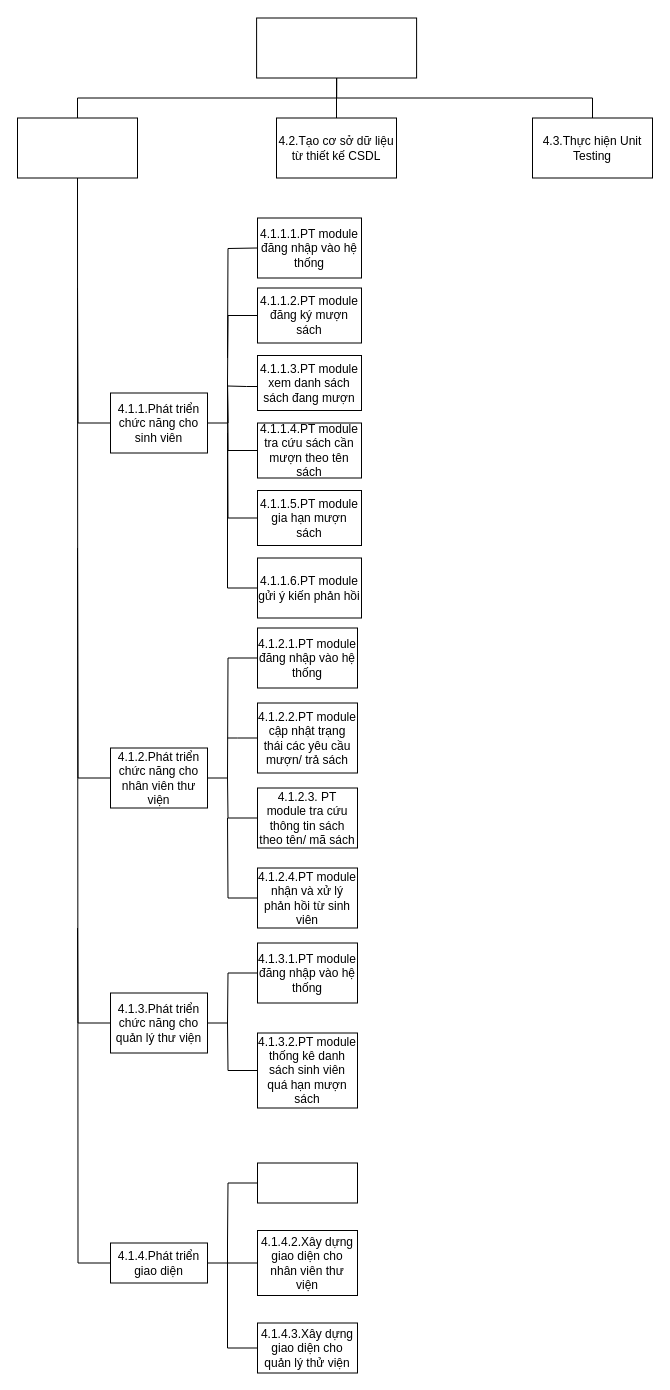
Image size: 670x1390. Some labels were removed from this diagram. The shapes that lost their labels are listed below. From the top down, each one's centre as x and y in pixels, then its label:
the point at 336,47: 4.Implementing
the point at 77,147: 4.1.Phát triển hệ thống dựa trên thiết kế (Lập trình và tạo Unit Test Case)
the point at 307,1182: 4.1.4.1.Xây dựng giao diện cho sinh viện
